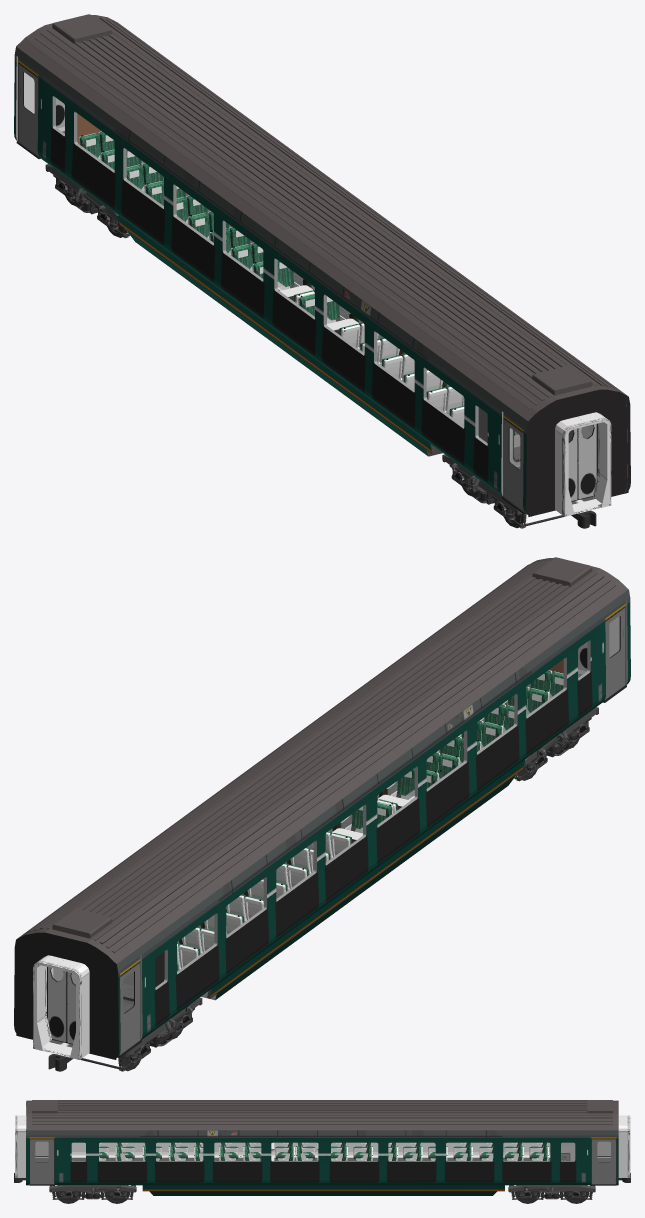
The model's file is srt_brmark3_gwr.obj.
3 views of the same model, one above another, from view 1: azimuth 30°, elevation 25°; view 2: azimuth 150°, elevation 25°; view 3: azimuth 270°, elevation 25° (orthographic). The views are drawn at different scales.
Visible parts, largest first — view 1: sidenew, jibung, jibungbong, chairs, back, sideunder, DT71, mak, backdoor, door_RF, door_RB, wall; view 2: sidenew, jibung, jibungbong, chairs, back, sideunder, DT71, mak, backdoor, door_RB, door_RF, wall; view 3: sidenew, jibungbong, jibung, chairs, sideunder, DT71, inside, mak, door_LF, door_LB, badak, wall (+2 smaller).
Part boxes in pixels (box(x1,y1,x2,y2)): sidenew: box(14, 22, 630, 516); jibung: box(16, 14, 626, 420); jibungbong: box(28, 17, 616, 409); chairs: box(78, 131, 514, 435); back: box(528, 389, 628, 516); sideunder: box(117, 215, 435, 456); DT71: box(45, 164, 596, 528); mak: box(555, 412, 611, 516); backdoor: box(56, 98, 596, 500); door_RF: box(503, 412, 524, 511); door_RB: box(18, 57, 38, 156); wall: box(77, 113, 573, 466); sidenew: box(14, 565, 630, 1057); jibung: box(17, 557, 628, 963); jibungbong: box(28, 560, 616, 952); chairs: box(177, 670, 563, 971); back: box(16, 932, 116, 1059); sideunder: box(207, 759, 524, 999); DT71: box(48, 707, 598, 1071); mak: box(33, 955, 89, 1059); backdoor: box(48, 642, 587, 1043); door_RB: box(119, 956, 140, 1055); door_RF: box(605, 601, 625, 699); wall: box(53, 659, 563, 1006); sidenew: box(26, 1102, 618, 1185); jibungbong: box(32, 1100, 612, 1124); jibung: box(26, 1100, 618, 1130); chairs: box(99, 1142, 548, 1160); sideunder: box(142, 1185, 504, 1195); DT71: box(14, 1173, 630, 1203); inside: box(26, 1103, 610, 1157); mak: box(15, 1115, 630, 1177); door_LF: box(29, 1135, 54, 1184); door_LB: box(591, 1135, 616, 1184); badak: box(35, 1158, 610, 1161); wall: box(561, 1142, 575, 1160).
Size of the model in its own units: 2.74 by 3.91 by 24.1.
Materials: 20 (20 with a texture image).
